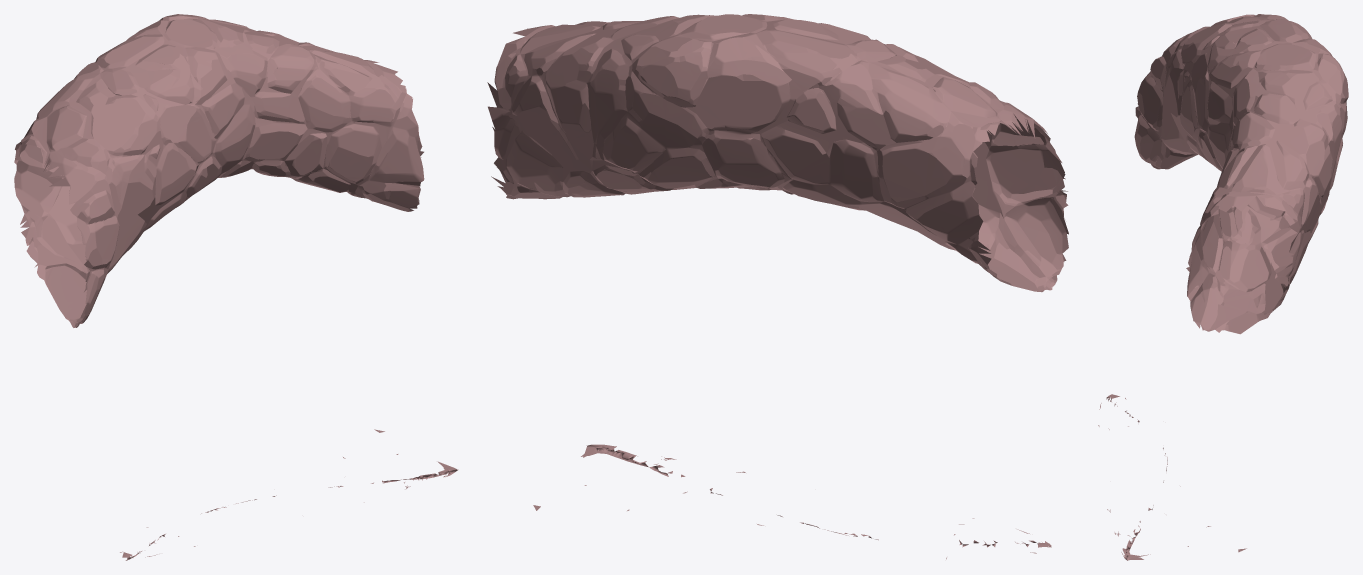
The model's file is canyon.fbx_PolyShape__3__005LODs.fbx.
3 renders of one model, left to right at view 1: azimuth 30°, elevation 25°; view 2: azimuth 150°, elevation 25°; view 3: azimuth 270°, elevation 25°, orthographic. The views are drawn at different scales.
Parts seen in each view (by area): view 1: PolyShape (3).005_LOD0; view 2: PolyShape (3).005_LOD0; view 3: PolyShape (3).005_LOD0.
Boxes of the visible parts, <box> form: PolyShape (3).005_LOD0: <box>14,14,458,560</box>; PolyShape (3).005_LOD0: <box>487,14,1068,559</box>; PolyShape (3).005_LOD0: <box>1098,14,1348,560</box>.
Size of what is drawn, in the model's own units: 7776 by 8527 by 4598.
